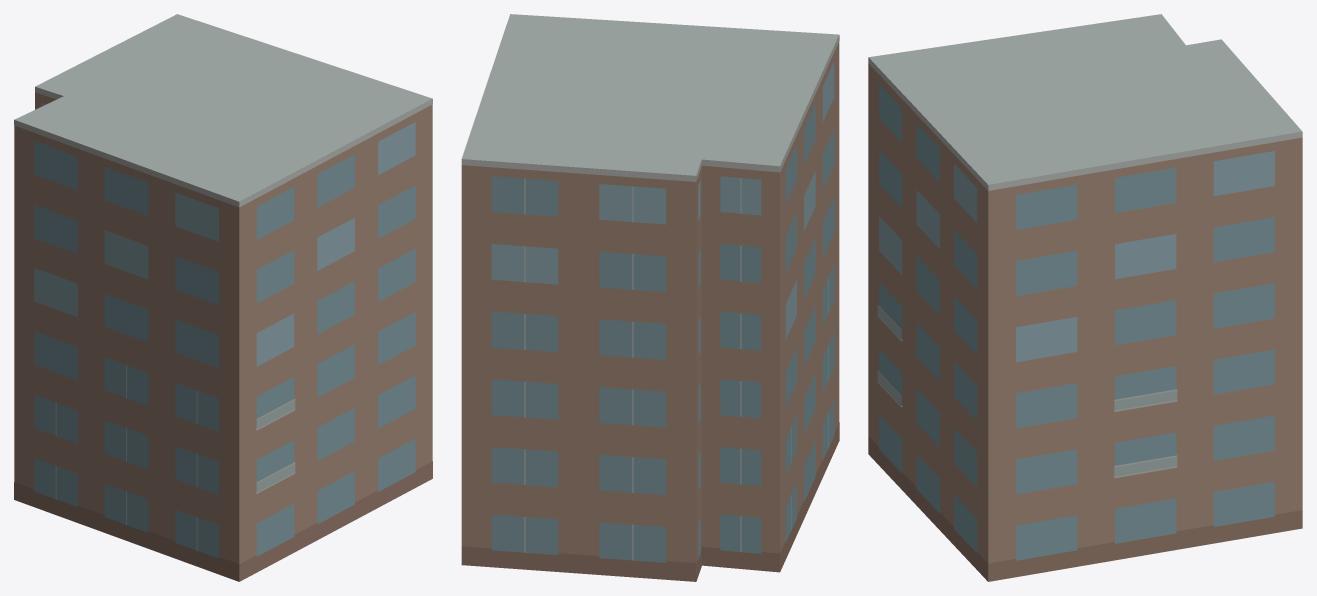
Rendered from survey-upis-32865140.glb.
3 views of the same model, side by side, from view 1: azimuth 30°, elevation 25°; view 2: azimuth 150°, elevation 25°; view 3: azimuth 270°, elevation 25° (orthographic). The views are drawn at different scales.
Visible parts, largest first — view 1: survey-upis-32865140.tmp; view 2: survey-upis-32865140.tmp; view 3: survey-upis-32865140.tmp.
Part boxes in pixels (x1,y1,x2,y2): survey-upis-32865140.tmp: (14, 14, 432, 581); survey-upis-32865140.tmp: (461, 14, 839, 581); survey-upis-32865140.tmp: (868, 14, 1302, 581).
Bounding box in the file's own units: 15.02 × 16.25 × 16.12.
